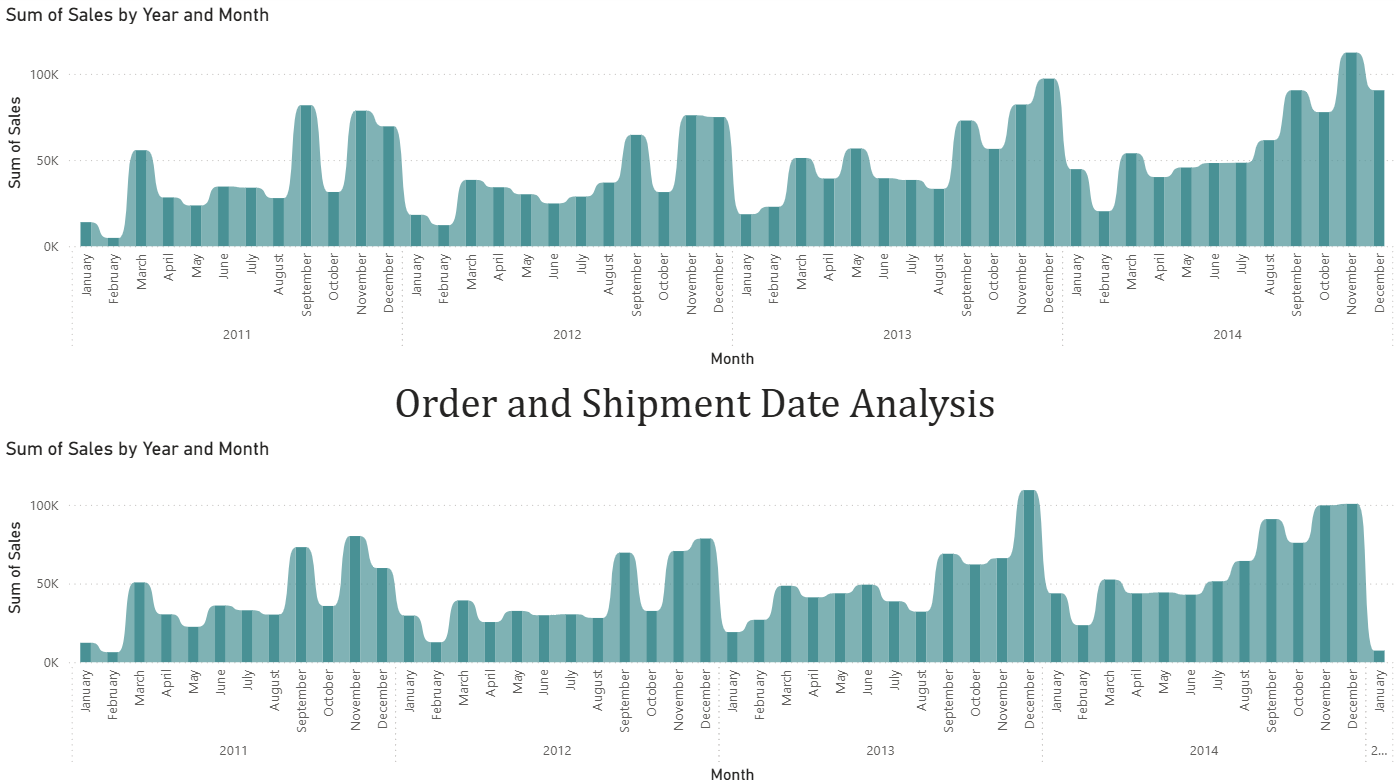

What the dashboard file says about the page in this screenshot:
{"tool":"powerbi","page":{"name":"Page 2","canvas":[1280,720],"ordinal":1},"visuals":[{"type":"ribbonChart","fields":{"Y":["Sum(Orders.Sales)"],"Category":["Orders.Order Date.Variation.Date Hierarchy.Year","Orders.Order Date.Variation.Date Hierarchy.Month"]},"box":[10,7.3,1270.4,335.5],"z":0},{"type":"ribbonChart","fields":{"Y":["Sum(Orders.Sales)"],"Category":["Orders.Ship Date.Variation.Date Hierarchy.Year","Orders.Ship Date.Variation.Date Hierarchy.Month"]},"box":[10,400.8,1270.4,319.2],"z":1000},{"type":"textbox","box":[0,342.8,1280.4,57.1],"z":2000}]}

Visuals, with their boxes in screenshot pixels (x1, y1, x2, y2), scaled from the page's 1280x720 canvas onto the 1396x783 screenshot:
ribbonChart - Sum(Orders.Sales) x Orders.Order Date.Variation.Date Hierarchy.Year: box(11, 8, 1395, 373)
ribbonChart - Sum(Orders.Sales) x Orders.Ship Date.Variation.Date Hierarchy.Year: box(11, 436, 1395, 782)
textbox: box(0, 373, 1395, 435)
